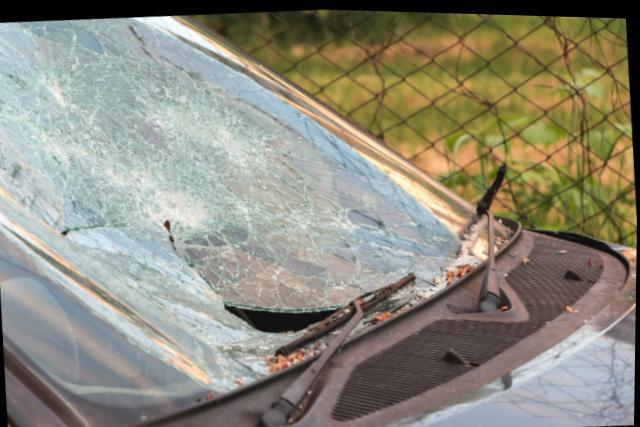glass shatter: (0, 14, 511, 427)
